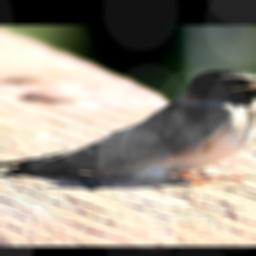Swallow: (0, 69, 256, 186)
